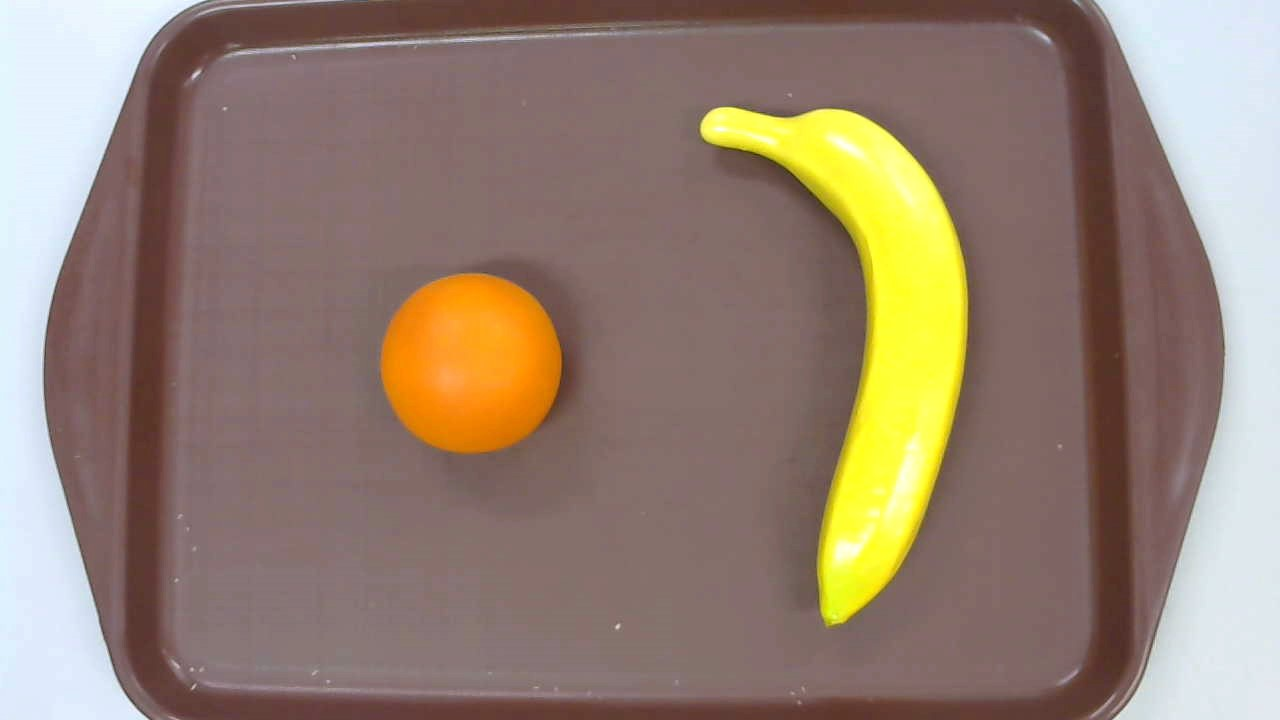banana: (700, 104, 967, 634)
bun: (381, 272, 562, 453)
